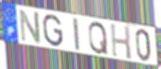0: (134, 28, 152, 63)
G: (42, 14, 65, 48)
H: (109, 22, 133, 61)
I: (72, 17, 81, 52)
N: (19, 8, 42, 45)
Q: (88, 21, 109, 56)
